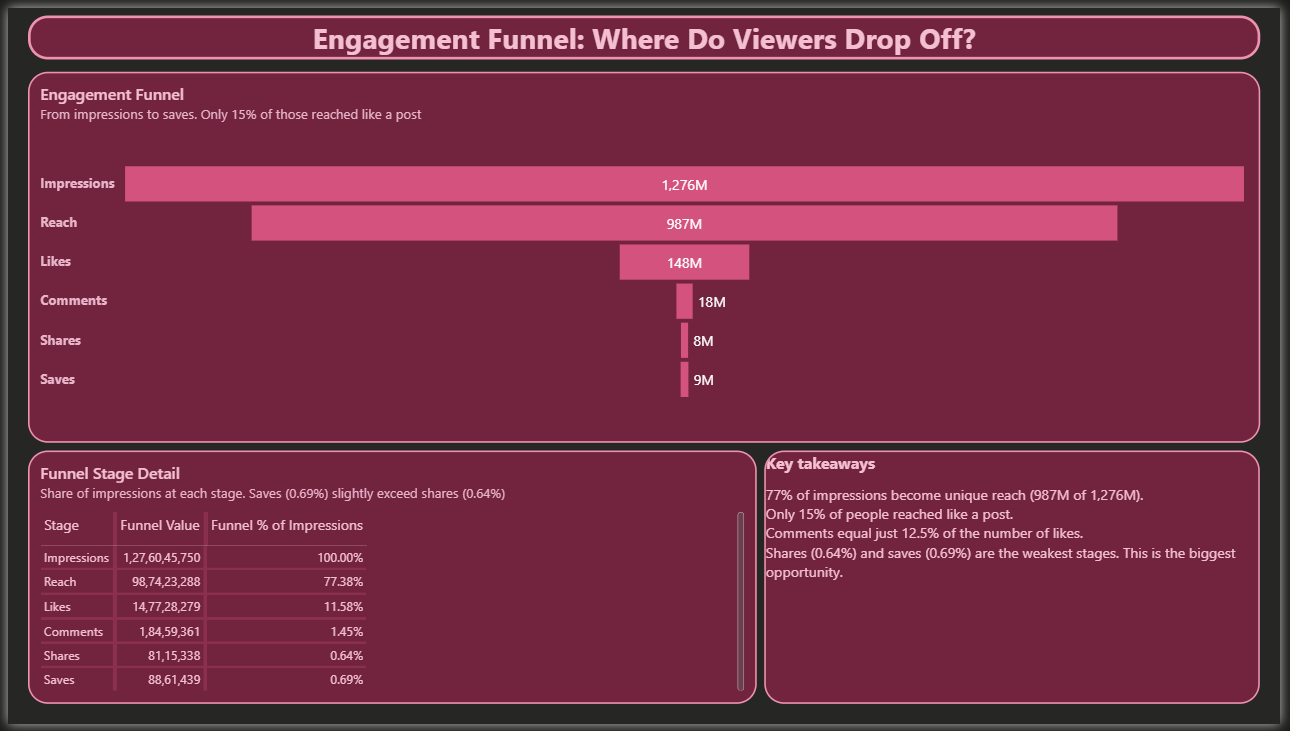

Layout of this report page (visuals, bound fields, positions):
{"tool":"powerbi","page":{"name":"Engagement Funnel","canvas":[1920,1080],"ordinal":4},"visuals":[{"type":"funnel","title":"Engagement Funnel","fields":{"Category":["Funnel Stages.Stage"],"Y":["Funnel Stages.Funnel Value"]},"box":[30,96,1860,560],"z":0},{"type":"tableEx","title":"Funnel Stage Detail","fields":{"Values":["Funnel Stages.Stage","Funnel Stages.Funnel Value","Funnel Stages.Funnel % of Impressions"]},"box":[30,668,1100,382],"z":1000},{"type":"textbox","box":[30,12,1860,66],"z":2000},{"type":"textbox","box":[1142,668,748,382],"z":3000}]}

Visuals, with their boxes in screenshot pixels (x1, y1, x2, y2), scaled from the page's 1920x1080 canvas onto the 1290x731 screenshot:
"Engagement Funnel" funnel: [20,65,1270,444]
"Funnel Stage Detail" tableEx: [20,452,759,711]
textbox: [20,8,1270,53]
textbox: [767,452,1270,711]
